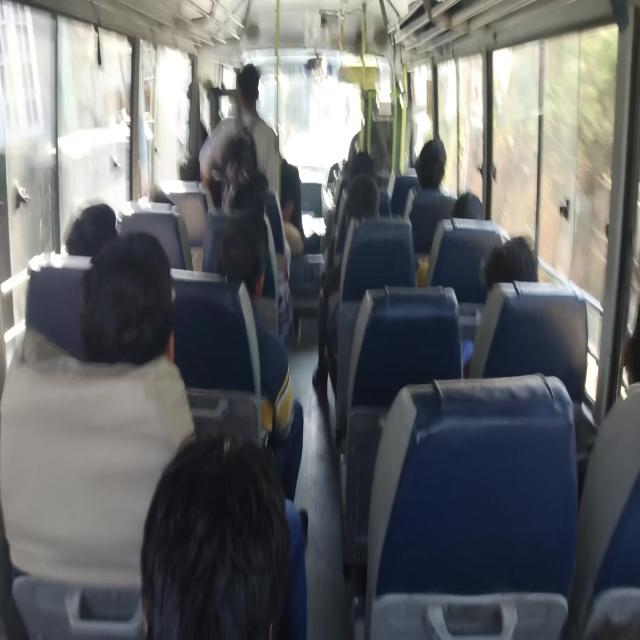person: (139, 431, 298, 638), (78, 230, 196, 455), (216, 211, 304, 501), (198, 62, 304, 254), (312, 172, 380, 398), (78, 230, 174, 365), (462, 234, 539, 378), (407, 137, 455, 252), (220, 130, 257, 214), (484, 234, 538, 291), (65, 202, 117, 257), (414, 137, 448, 195), (451, 192, 484, 220)
